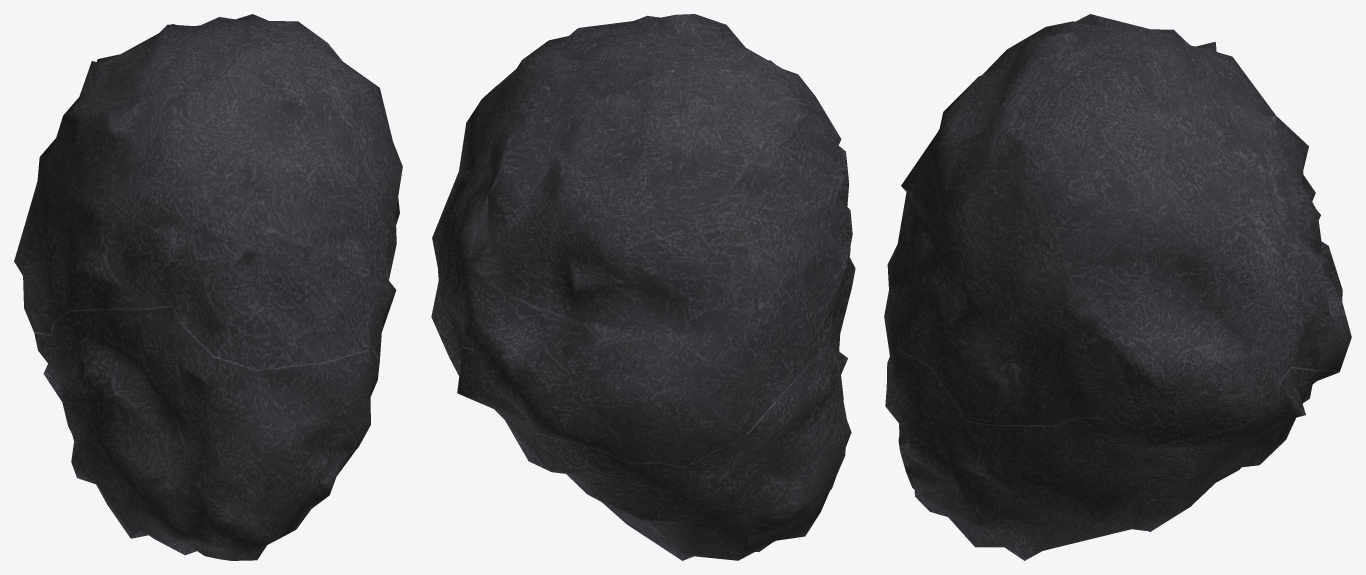
The model's file is asteroid.glb.
3 renders of one model, left to right at view 1: azimuth 30°, elevation 25°; view 2: azimuth 150°, elevation 25°; view 3: azimuth 270°, elevation 25°, orthographic. The views are drawn at different scales.
Visible parts, largest first — view 1: Object_2; view 2: Object_2; view 3: Object_2.
Boxes of the visible parts, x1,y1,x2,y2 form: Object_2: (14, 14, 402, 560); Object_2: (431, 14, 855, 560); Object_2: (884, 14, 1351, 560).
Bounding box in the file's own units: 2.25 × 3.14 × 2.47.
Materials: 1 (1 with a texture image).
